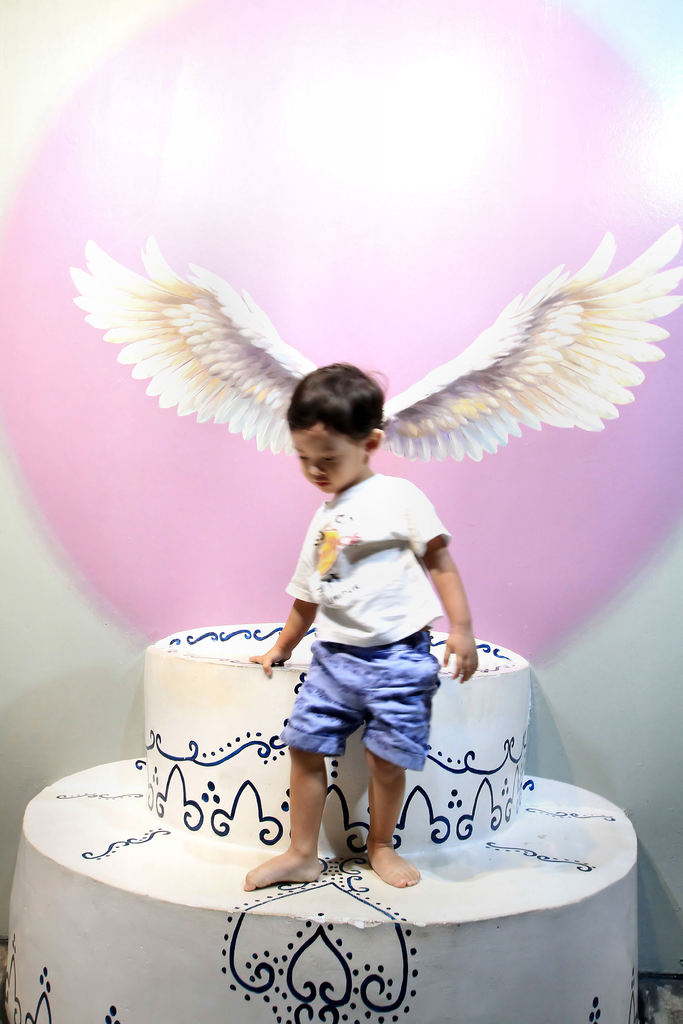cake: (0, 606, 640, 1021)
